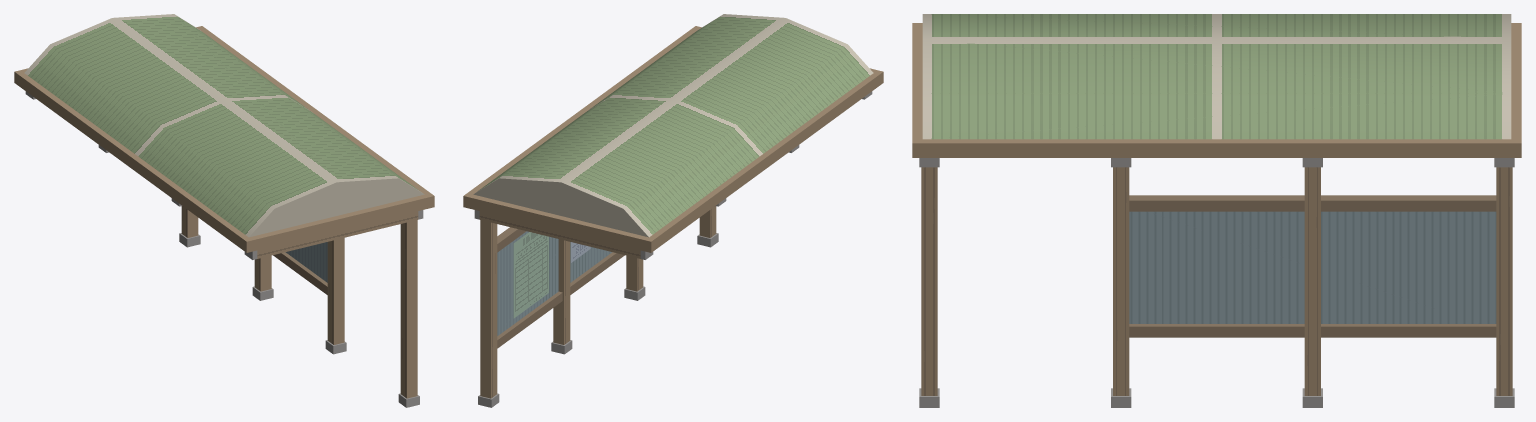
File: 010d_Bus_Stop.glb
The picture shows the model from 3 angles, left to right: view 1: azimuth 30°, elevation 25°; view 2: azimuth 150°, elevation 25°; view 3: azimuth 270°, elevation 25°; orthographic projection. The views are drawn at different scales.
Parts seen in each view (by area): view 1: part_0; view 2: part_0; view 3: part_0.
Boxes of the visible parts, left/top/right/bottom form: part_0: left=14, top=14, right=434, bottom=407; part_0: left=463, top=14, right=883, bottom=407; part_0: left=912, top=14, right=1521, bottom=407.
Bounding box in the file's own units: 3.5 × 4.3 × 7.5.
Materials: 1 (1 with a texture image).
